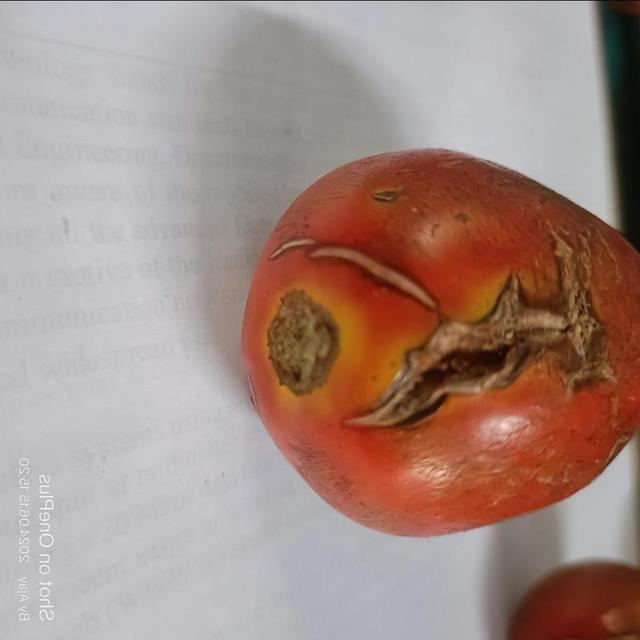Cracking Fruit: (277, 172, 405, 267)
